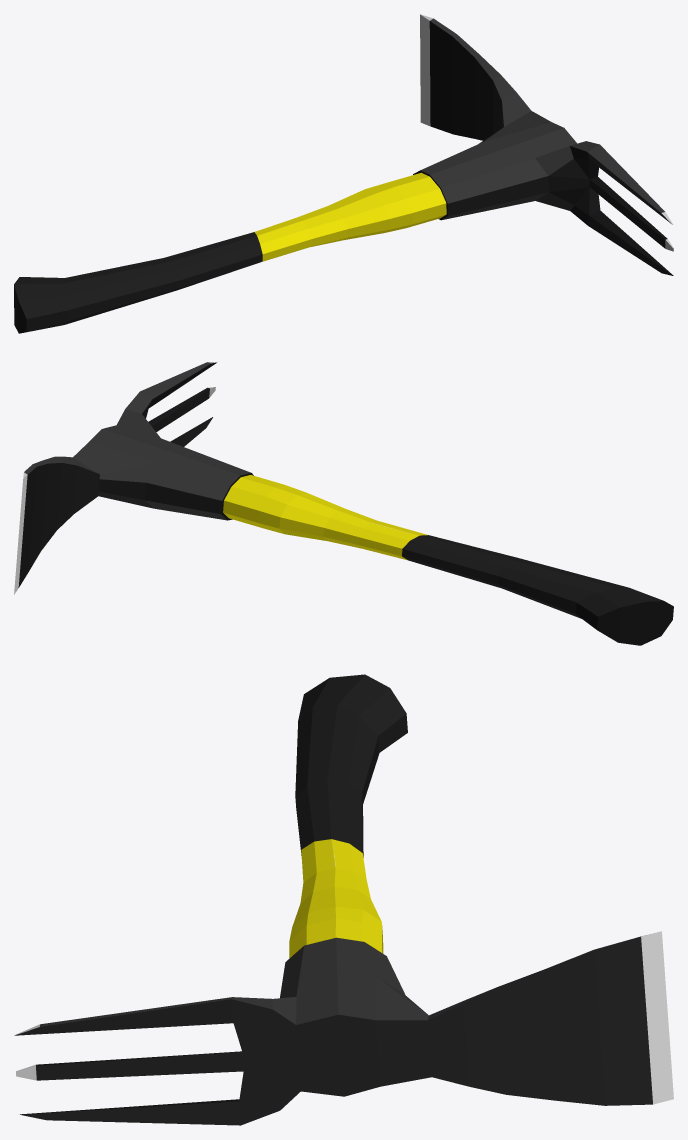
Rendered from WorldItem_Adze.fbx.
3 renders of one model, top to bottom at view 1: azimuth 30°, elevation 25°; view 2: azimuth 150°, elevation 25°; view 3: azimuth 270°, elevation 25°, orthographic. The views are drawn at different scales.
Parts seen in each view (by area): view 1: ZomboidAdze; view 2: ZomboidAdze; view 3: ZomboidAdze.
Boxes of the visible parts, left/top/right/bottom form: ZomboidAdze: left=14, top=14, right=673, bottom=333; ZomboidAdze: left=14, top=362, right=673, bottom=645; ZomboidAdze: left=14, top=674, right=673, bottom=1125.
Size of the model in its own units: 0.3914 by 0.078 by 0.2774.
